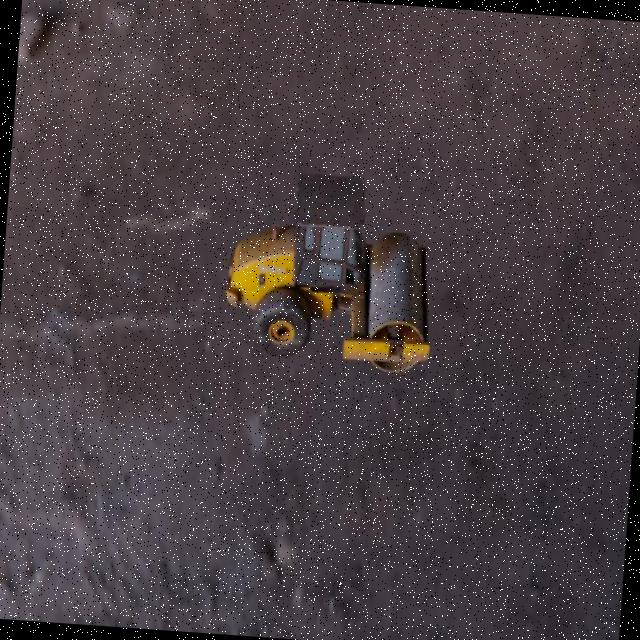Roller: (220, 166, 441, 374)
